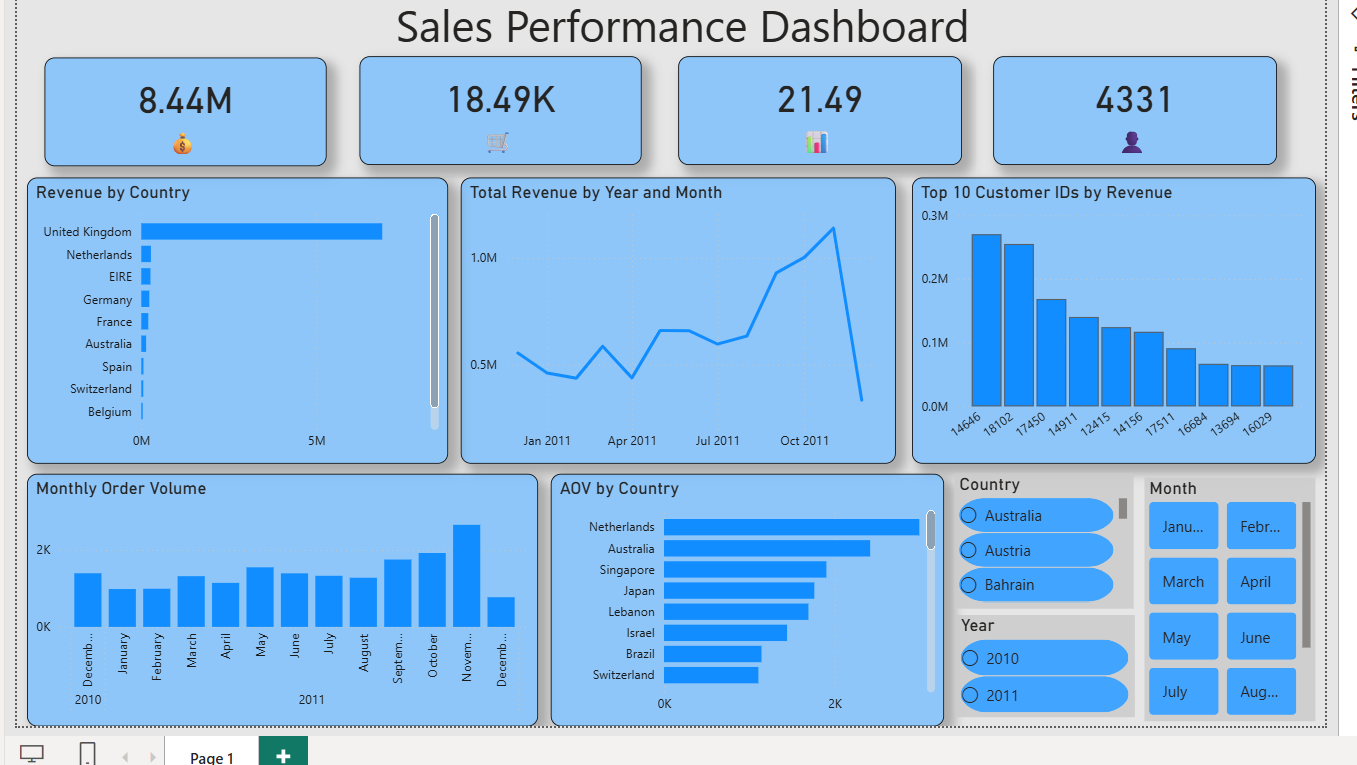

The page's visual inventory and layout, read from the dashboard file:
{"tool":"powerbi","page":{"name":"Page 1","canvas":[1280,720],"ordinal":0},"visuals":[{"type":"card","fields":{"Values":["Sum(cleaned_online_retail.TotalPrice)"]},"box":[26.9,66,276.4,106.4],"z":0},{"type":"card","fields":{"Values":["Count(cleaned_online_retail.CustomerID)"]},"box":[955,64.8,277.6,106.4],"z":1000},{"type":"card","fields":{"Values":["select","Sum(cleaned_online_retail.TotalPrice)","CountNonNull(cleaned_online_retail.InvoiceNo)"]},"box":[646.9,64.8,277.6,106.4],"z":2000},{"type":"card","fields":{"Values":["Count(cleaned_online_retail.InvoiceNo)"]},"box":[335.1,64.8,276.4,106.4],"z":3000},{"type":"lineChart","title":"Total Revenue by Year and Month","fields":{"Y":["Sum(cleaned_online_retail.TotalPrice)"],"Category":["cleaned_online_retail.InvoiceDate.Variation.Date Hierarchy.Year","cleaned_online_retail.InvoiceDate.Variation.Date Hierarchy.Month"]},"box":[434.1,183.4,425.5,280],"z":4000},{"type":"barChart","title":"Revenue by Country","fields":{"Y":["Sum(cleaned_online_retail.TotalPrice)"],"Category":["cleaned_online_retail.Country"]},"box":[9.8,183.4,412.1,280],"z":5000},{"type":"columnChart","title":"Top 10 High-Value Customers","fields":{"Category":["cleaned_online_retail.CustomerID"],"Y":["Sum(cleaned_online_retail.TotalPrice)"]},"box":[875.5,183.4,395,280],"z":6000},{"type":"clusteredColumnChart","title":"Monthly Order Volume","fields":{"Y":["Count(cleaned_online_retail.InvoiceNo)"],"Category":["cleaned_online_retail.InvoiceDate.Variation.Date Hierarchy.Year","cleaned_online_retail.InvoiceDate.Variation.Date Hierarchy.Month"]},"box":[9.8,473.2,500.1,247],"z":7000},{"type":"barChart","title":"AOV by Country","fields":{"Y":["cleaned_online_retail.Sum of TotalPrice divided by Count of InvoiceNo"],"Category":["cleaned_online_retail.Country"]},"box":[522.1,473.2,385.2,247],"z":8000},{"type":"listSlicer","fields":{"Values":["cleaned_online_retail.Country"]},"box":[917.1,473.2,174.9,132.1],"z":9000},{"type":"listSlicer","fields":{"Values":["cleaned_online_retail.InvoiceDate.Variation.Date Hierarchy.Year"]},"box":[918.3,611.4,174.9,100.3],"z":10000},{"type":"advancedSlicerVisual","fields":{"Values":["cleaned_online_retail.InvoiceDate.Variation.Date Hierarchy.Month"]},"box":[1103,476.9,167.5,238.5],"z":11000},{"type":"textbox","box":[209.1,0,884.1,70.9],"z":12000}]}

Visuals, with their boxes in screenshot pixels (x1, y1, x2, y2):
card - Sum(cleaned_online_retail.TotalPrice): {"left": 28, "top": 48, "right": 317, "bottom": 159}
card - Count(cleaned_online_retail.CustomerID): {"left": 998, "top": 47, "right": 1289, "bottom": 158}
card - select x Sum(cleaned_online_retail.TotalPrice): {"left": 676, "top": 47, "right": 967, "bottom": 158}
card - Count(cleaned_online_retail.InvoiceNo): {"left": 350, "top": 47, "right": 639, "bottom": 158}
"Total Revenue by Year and Month" lineChart: {"left": 454, "top": 171, "right": 899, "bottom": 463}
"Revenue by Country" barChart: {"left": 10, "top": 171, "right": 441, "bottom": 463}
"Top 10 High-Value Customers" columnChart: {"left": 915, "top": 171, "right": 1328, "bottom": 463}
"Monthly Order Volume" clusteredColumnChart: {"left": 10, "top": 474, "right": 533, "bottom": 732}
"AOV by Country" barChart: {"left": 546, "top": 474, "right": 949, "bottom": 732}
listSlicer - cleaned_online_retail.Country: {"left": 959, "top": 474, "right": 1142, "bottom": 612}
listSlicer - cleaned_online_retail.InvoiceDate.Variation.Date Hierarchy.Year: {"left": 960, "top": 618, "right": 1143, "bottom": 723}
advancedSlicerVisual - cleaned_online_retail.InvoiceDate.Variation.Date Hierarchy.Month: {"left": 1153, "top": 477, "right": 1328, "bottom": 727}
textbox: {"left": 219, "top": 0, "right": 1143, "bottom": 53}
